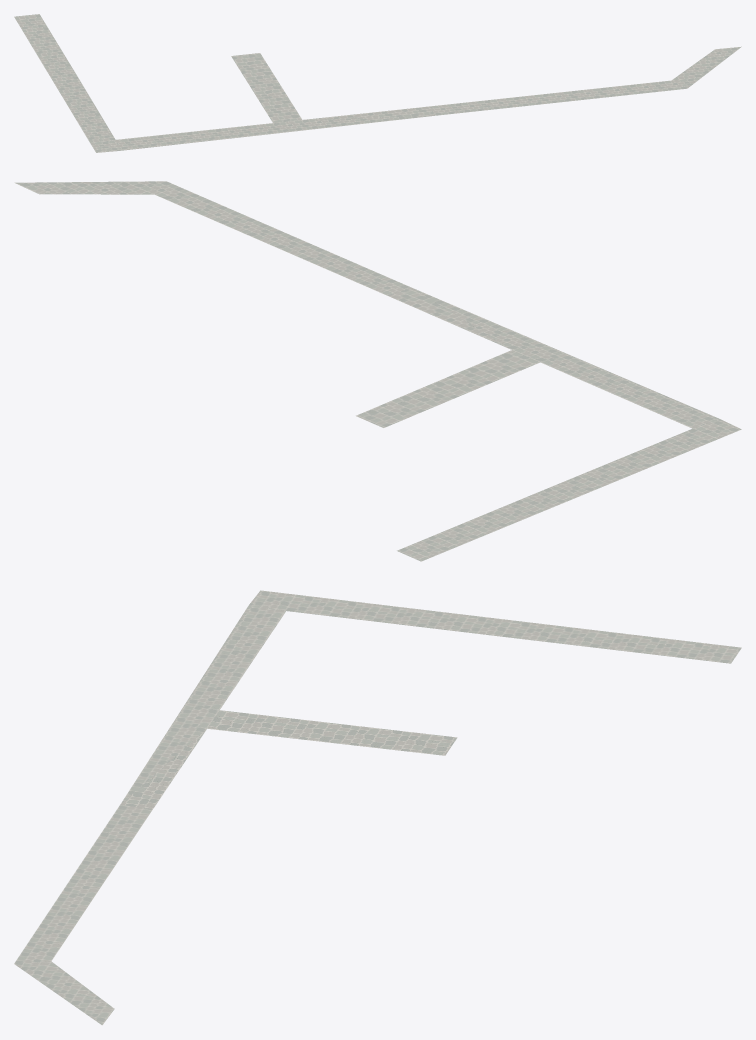
File: kd_stage_136599_0_16_bounded.glb
The picture shows the model from 3 angles, top to bottom: view 1: azimuth 30°, elevation 25°; view 2: azimuth 150°, elevation 25°; view 3: azimuth 270°, elevation 25°; orthographic projection. The views are drawn at different scales.
Visible parts, largest first — view 1: kd_stage_136599_0_16_bounded; view 2: kd_stage_136599_0_16_bounded; view 3: kd_stage_136599_0_16_bounded.
Part boxes in pixels (x1,y1,x2,y2): kd_stage_136599_0_16_bounded: (14,14,741,152); kd_stage_136599_0_16_bounded: (14,181,741,561); kd_stage_136599_0_16_bounded: (14,590,741,1025).
Bounding box in the file's own units: 57.75 × 7.63e-06 × 40.83.
Materials: 1 (1 with a texture image).
